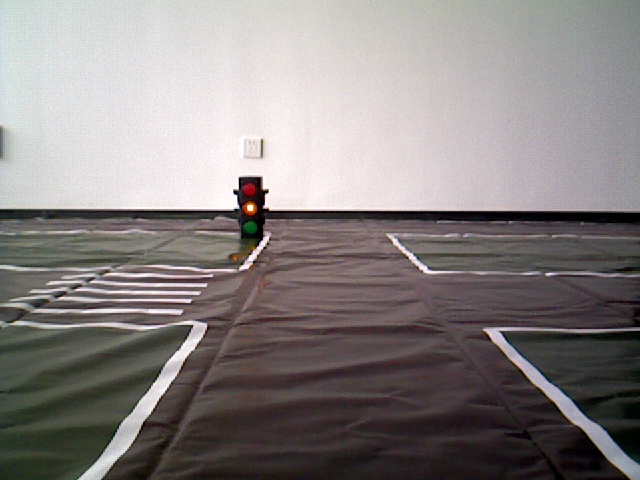yellow: (234, 177, 269, 235)
